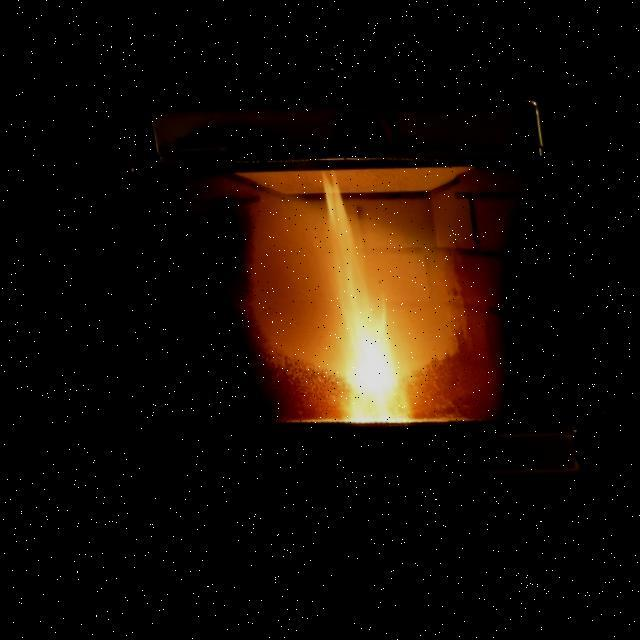Fire: (296, 178, 420, 427)
